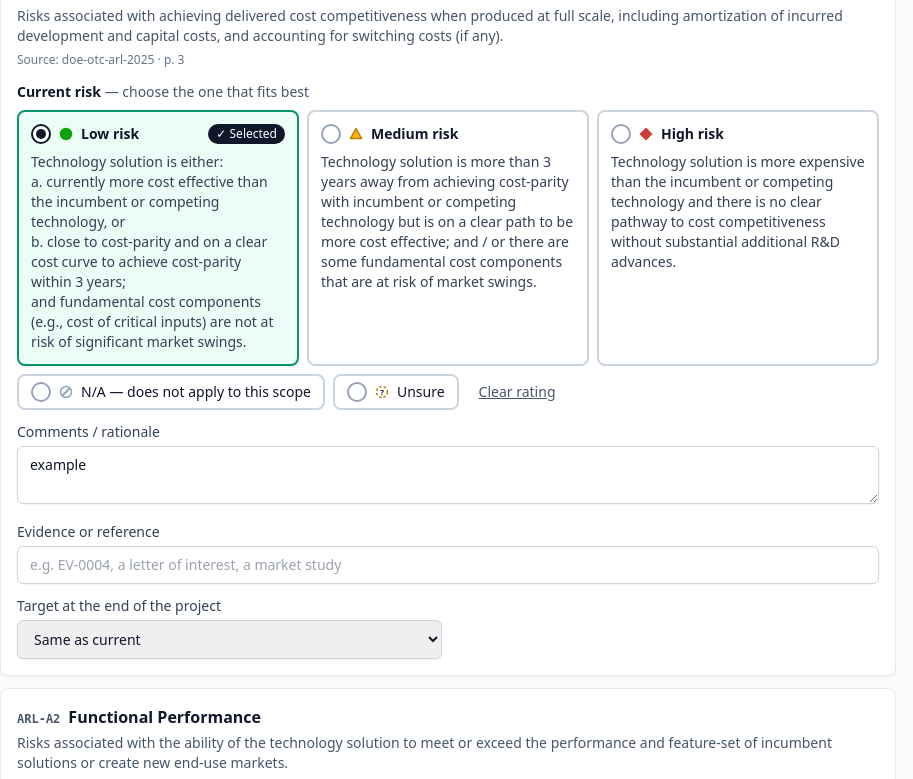
Test: ARL flow › shows which risk option is chosen, and a status line only when a rule changes the count
(page scrolled)
Check: the text "— choose the one that fits best" is shown, box [105,82,309,101]
Check: the radio button labelled "Low risk" is checked, box [17,110,299,366]
Click the radio button labelled "? Unsure". click: (396, 392)
box: [333,374,459,410]
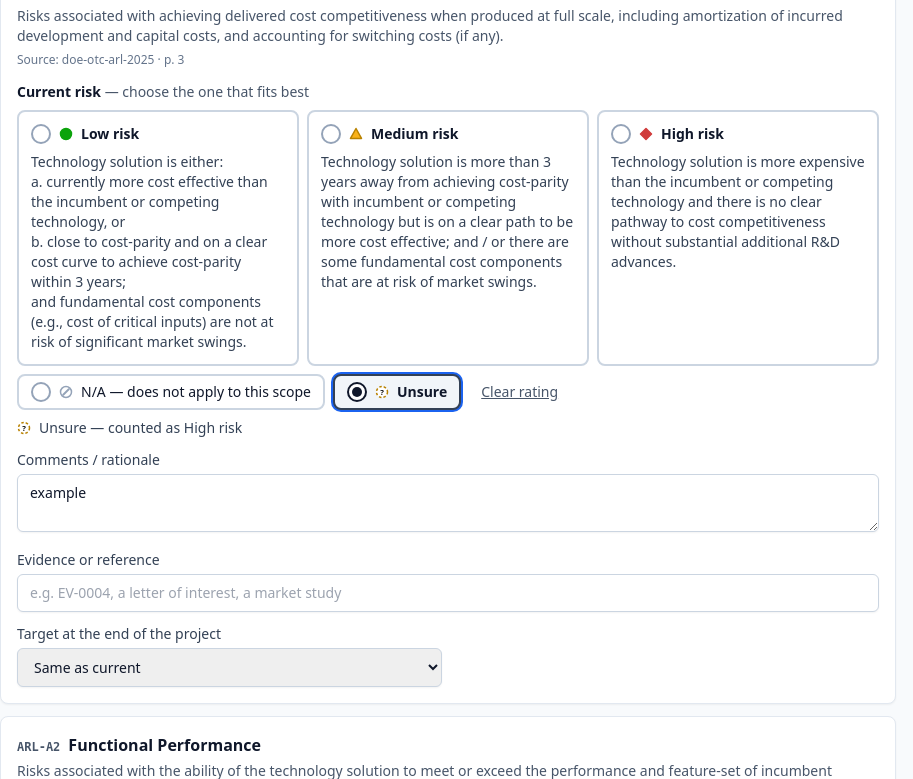
Check: the text "Unsure — counted as High risk" is shown, box [39,418,242,438]
